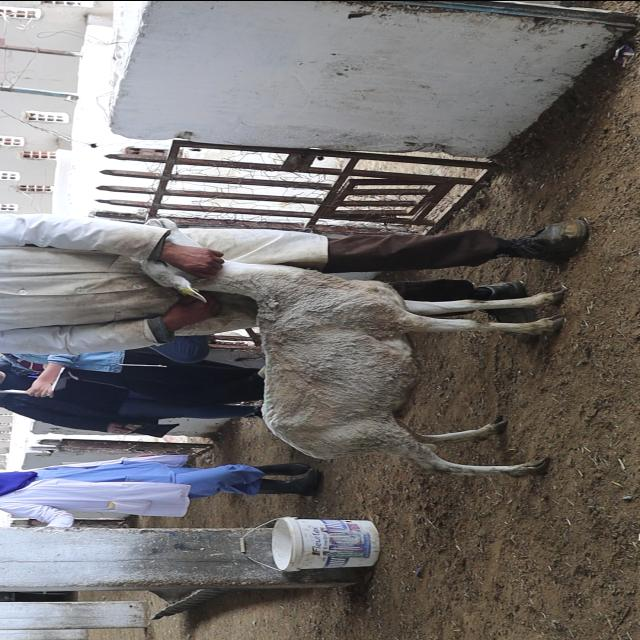Score_1: (139, 260, 564, 476)
